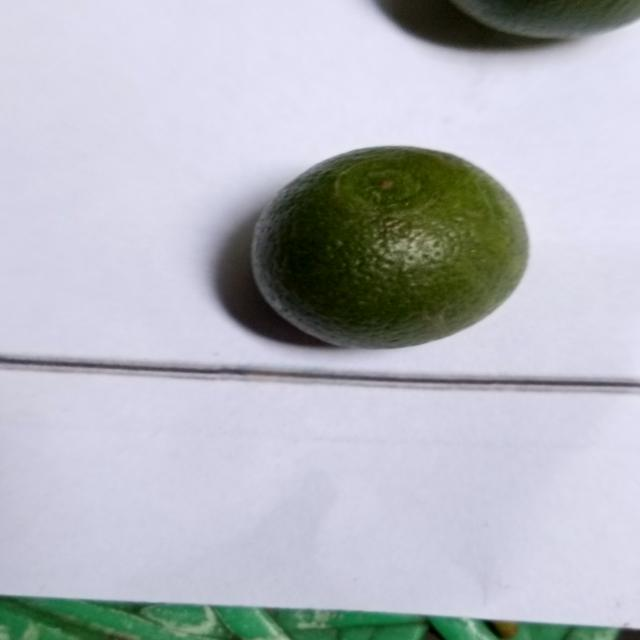heathy: (249, 144, 543, 358)
